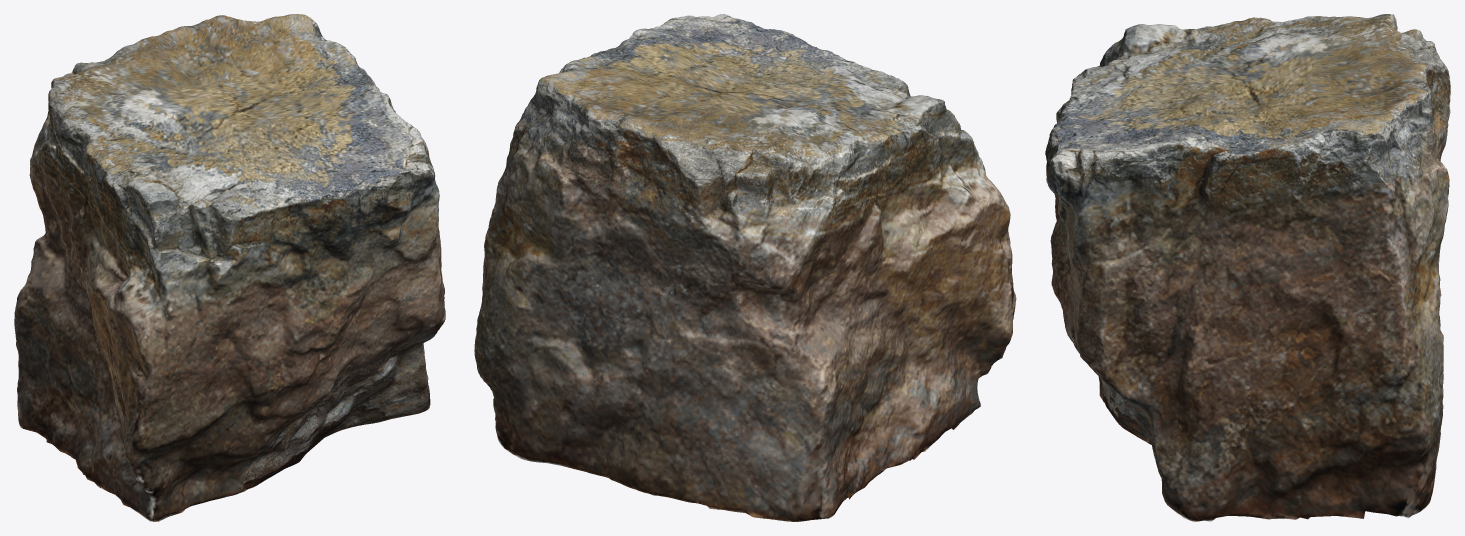
File: sparse1.glb
3 views of the same model, side by side, from view 1: azimuth 30°, elevation 25°; view 2: azimuth 150°, elevation 25°; view 3: azimuth 270°, elevation 25° (orthographic). The views are drawn at different scales.
Parts seen in each view (by area): view 1: Node; view 2: Node; view 3: Node.
Part boxes in pixels (box(x1,y1,x2,y2)): Node: box(14, 14, 445, 521); Node: box(474, 14, 1016, 521); Node: box(1045, 14, 1450, 521).
Bounding box in the file's own units: 2.81 × 2.63 × 2.52.
1 material, 1 textured.
